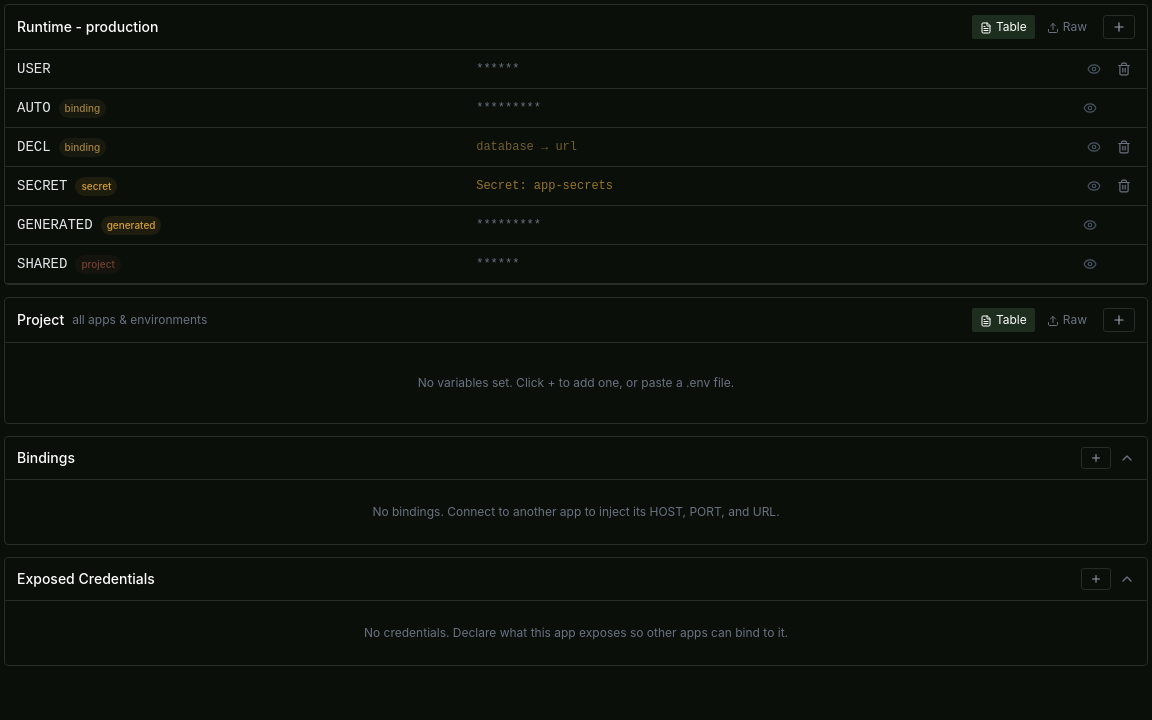
VariablesTab runtime ownership › submits only user literals and keeps managed rows through table and raw saves
This screenshot has width=1152, height=720.
Expected: the text "AUTO" is shown, [17,98,51,118]
Click the button "******" in the row of "USER" at (498, 69), box [472,59,1079,79]
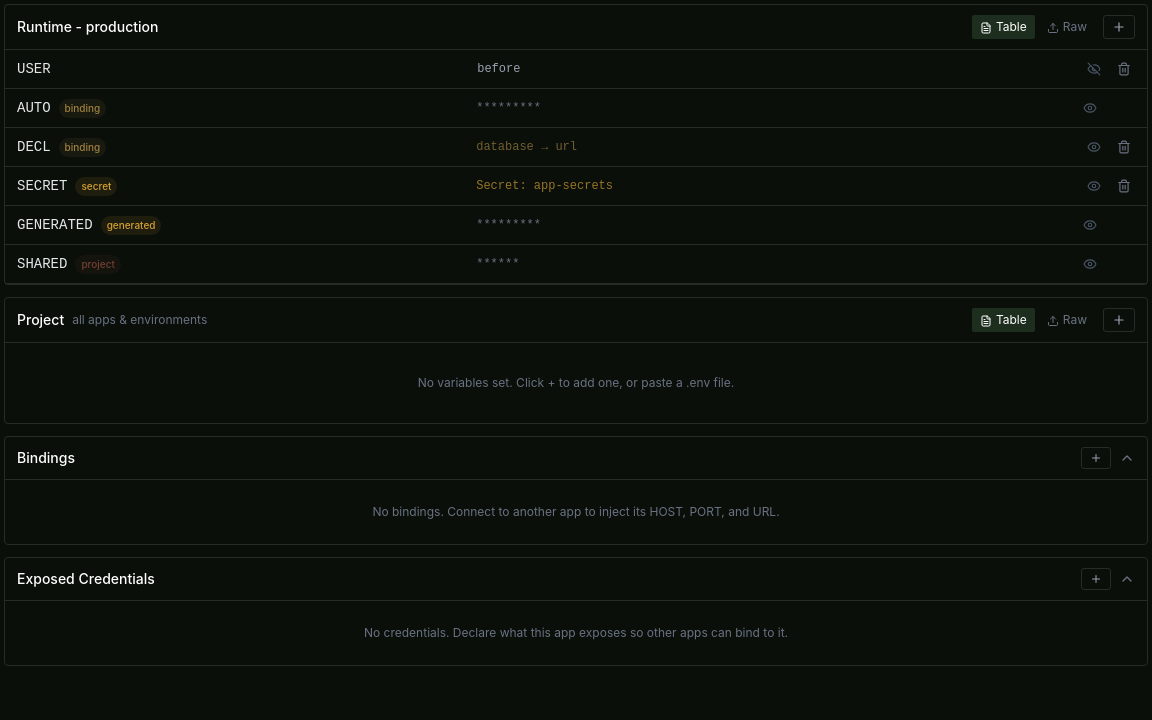
Replace the text in the field with "after" at (776, 69), box [472,58,1079,80]
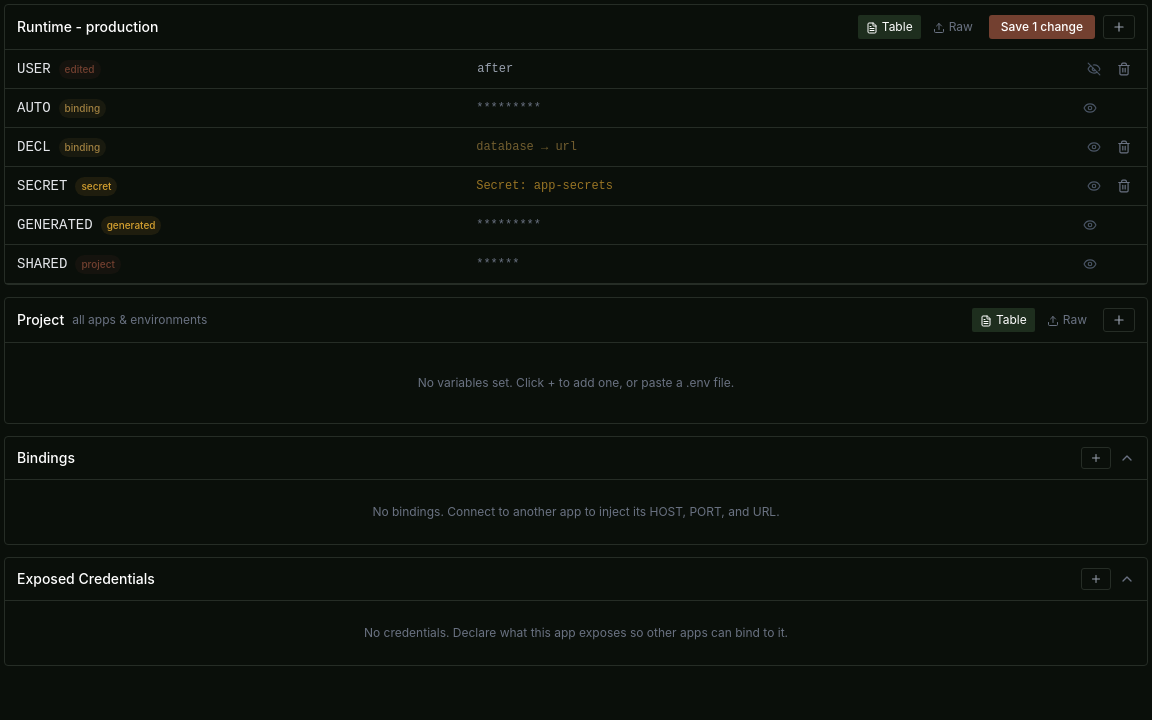
Click the button "Save 1 change" at (1042, 27), box [989,15,1095,39]
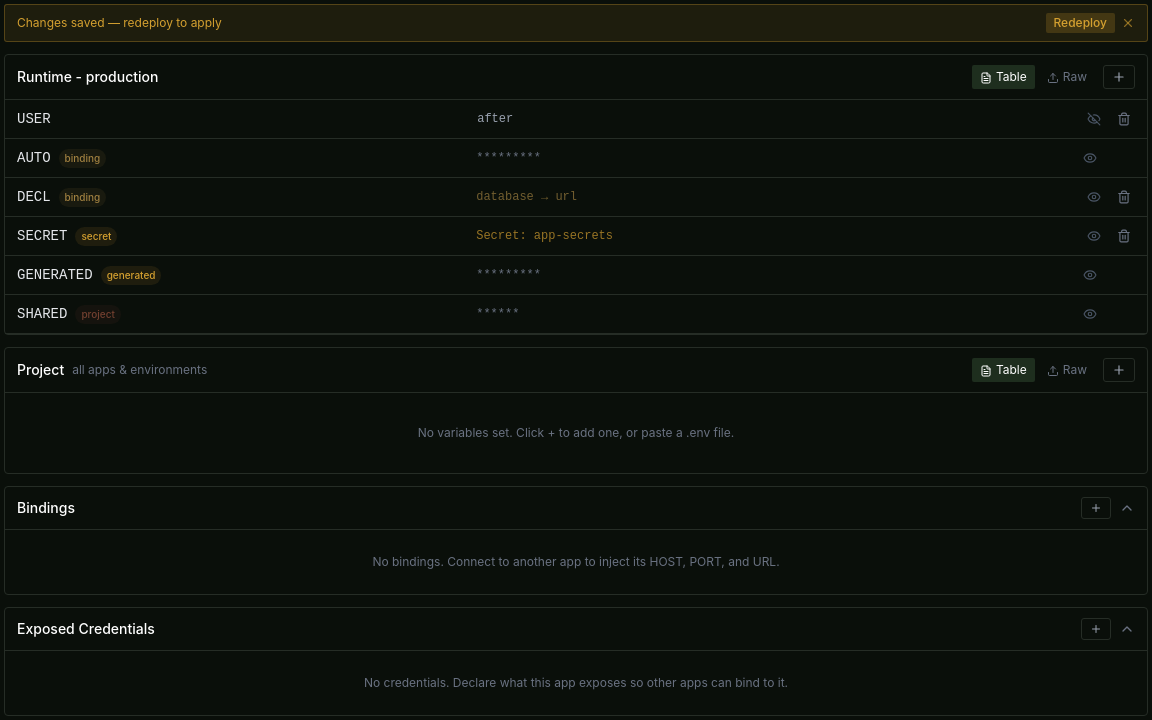
Expected: the text "AUTO" is shown, [17,148,51,168]
Expected: the text "DECL" is shown, [17,187,51,207]
Click the button "Raw" in the row of "Runtime - production" at (1067, 77), box [1039,65,1095,89]
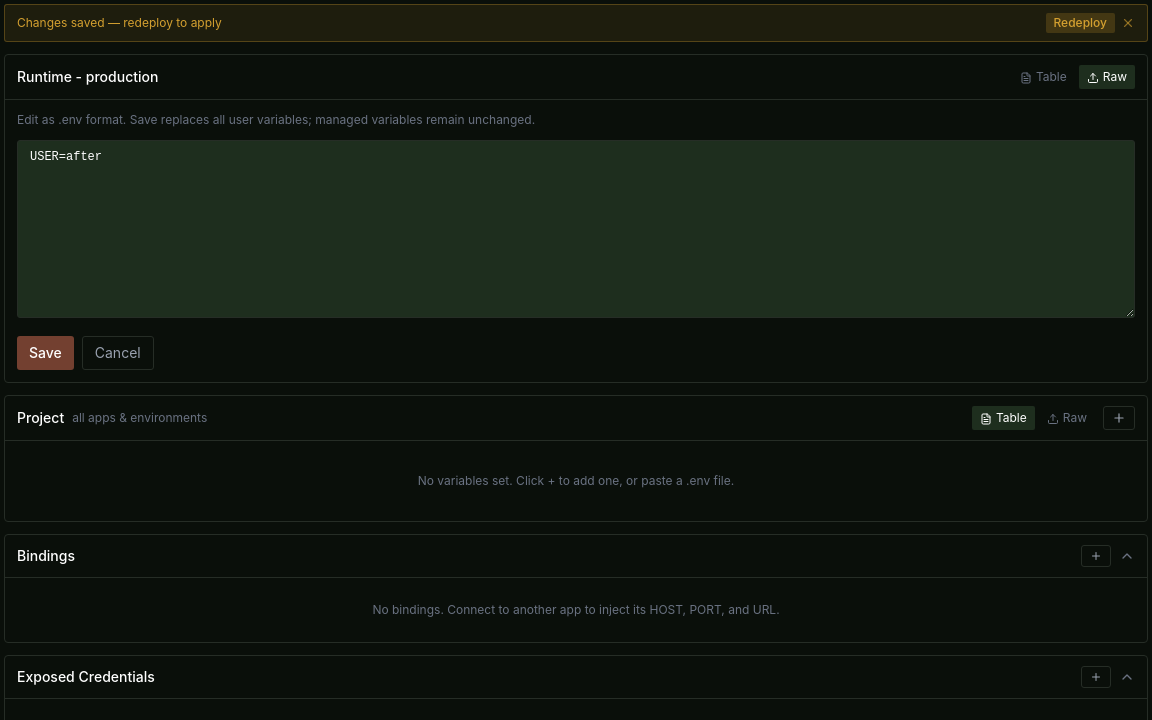
Result: the text box holds "USER=after"
Replace the text in the text box with "RAW=one" at (576, 229), box [17,140,1135,318]
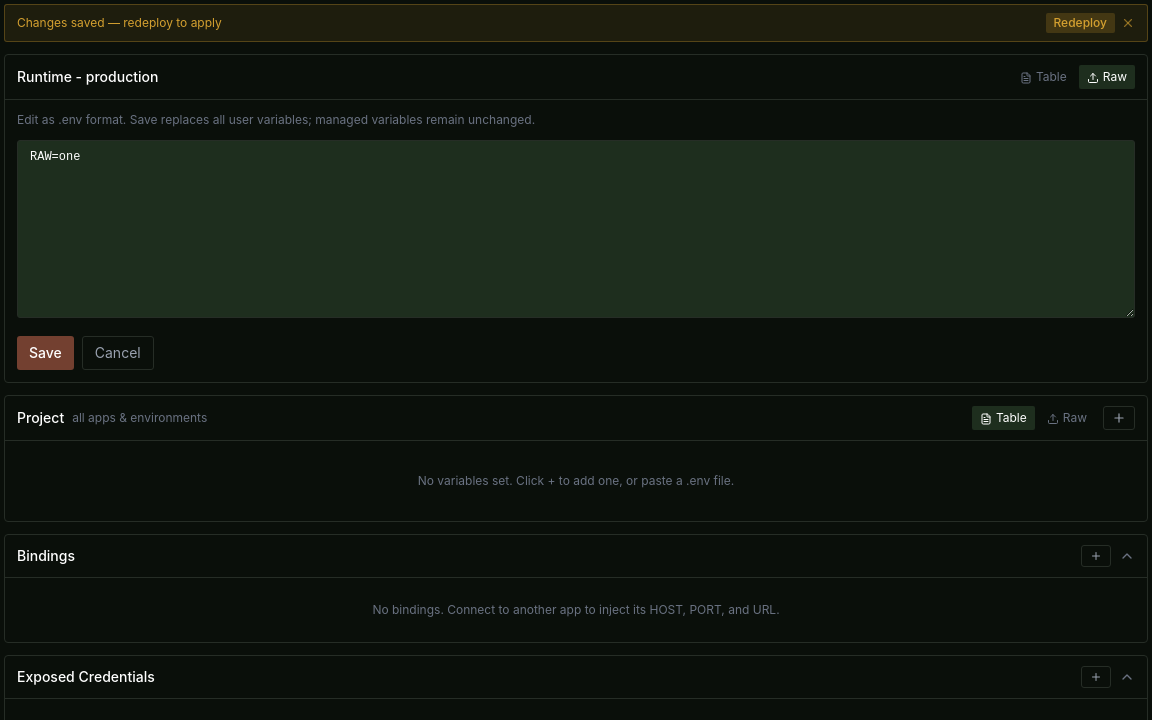
Click the button "Save" at (45, 353), box [17,336,74,370]
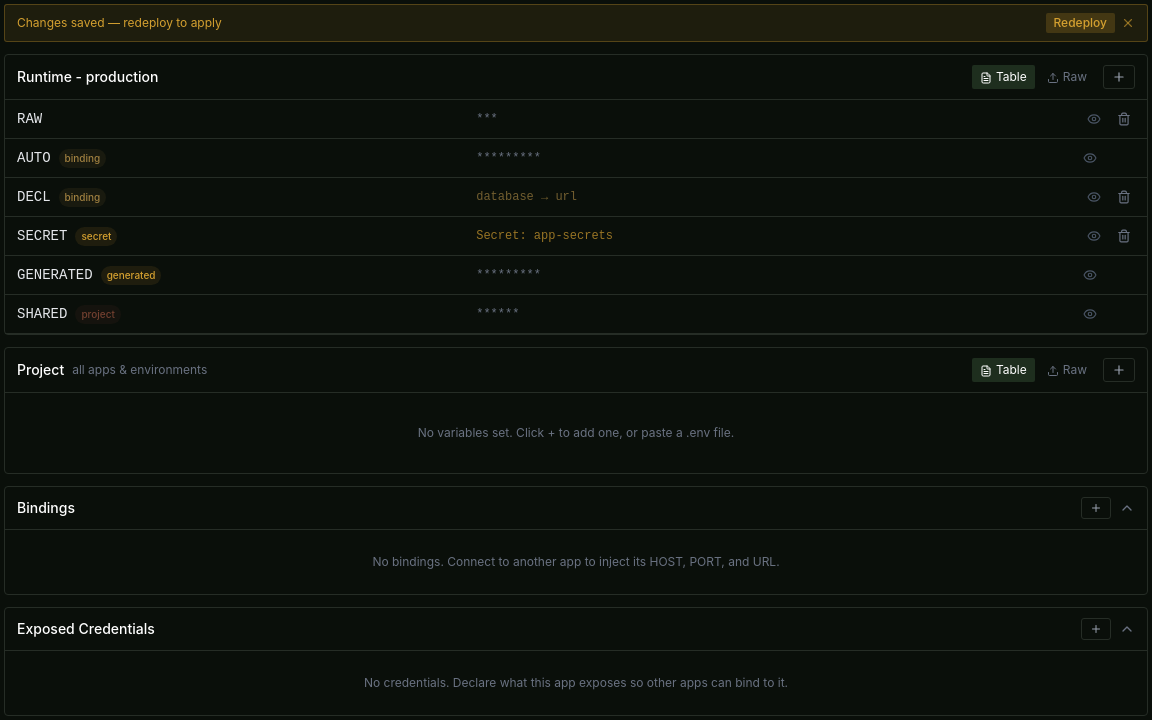
Result: the text "AUTO" is shown at [17,148,51,168]
Result: the text "DECL" is shown at [17,187,51,207]
Result: the text "SECRET" is shown at [17,226,67,246]
